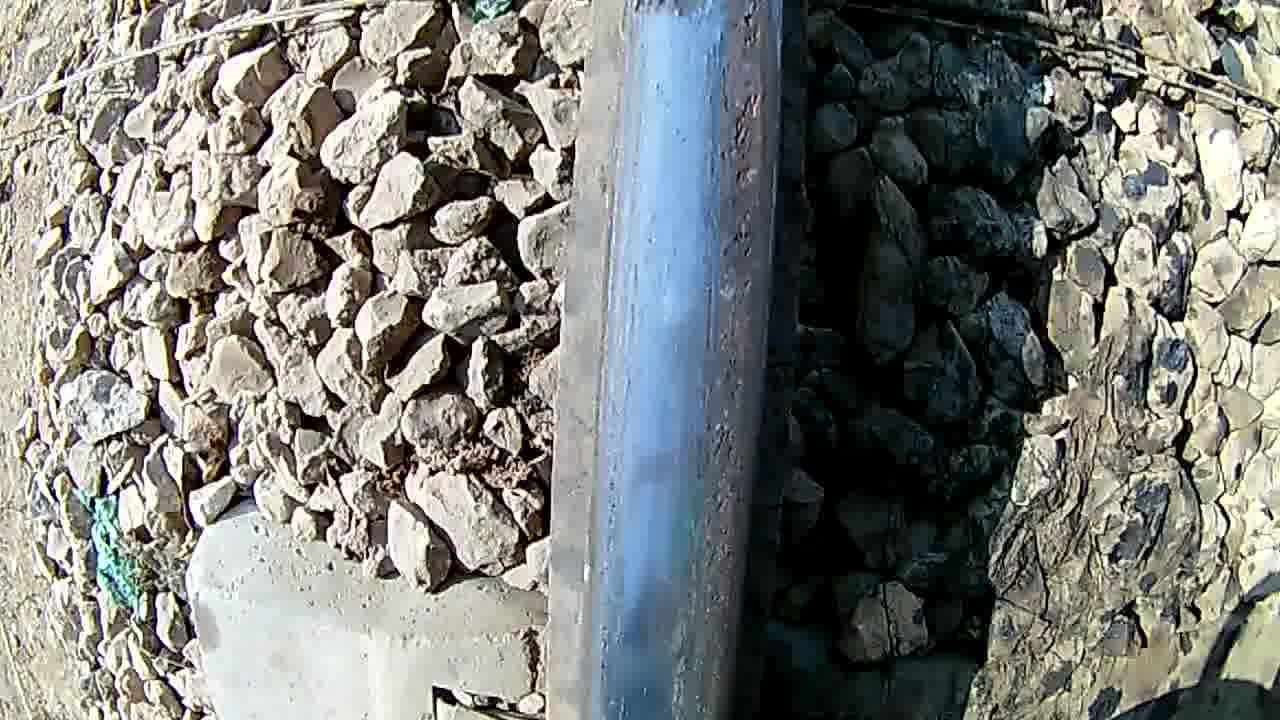crack: (584, 0, 781, 720)
